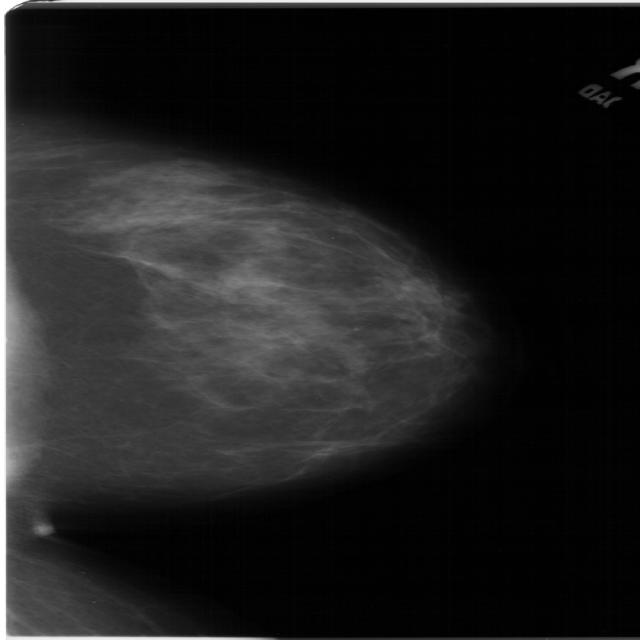tumour: (217, 272, 250, 288)
